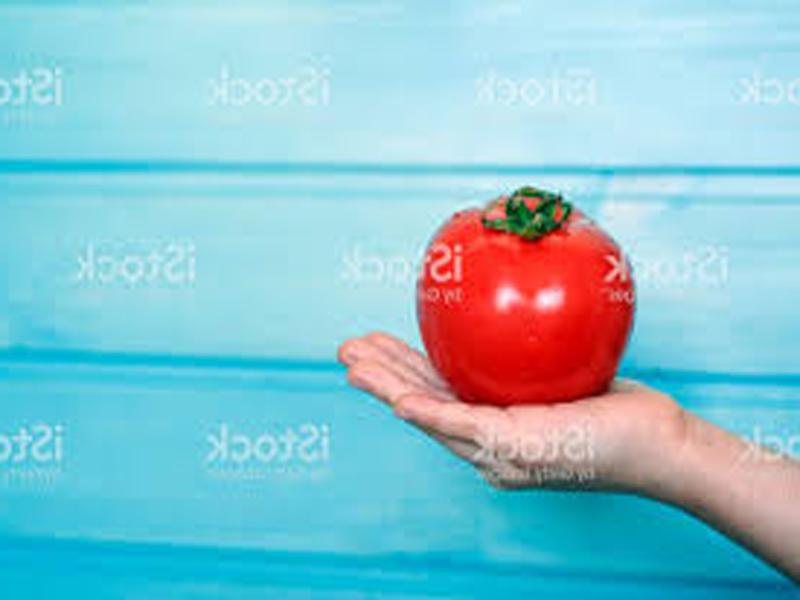Tomato: (415, 190, 630, 407)
